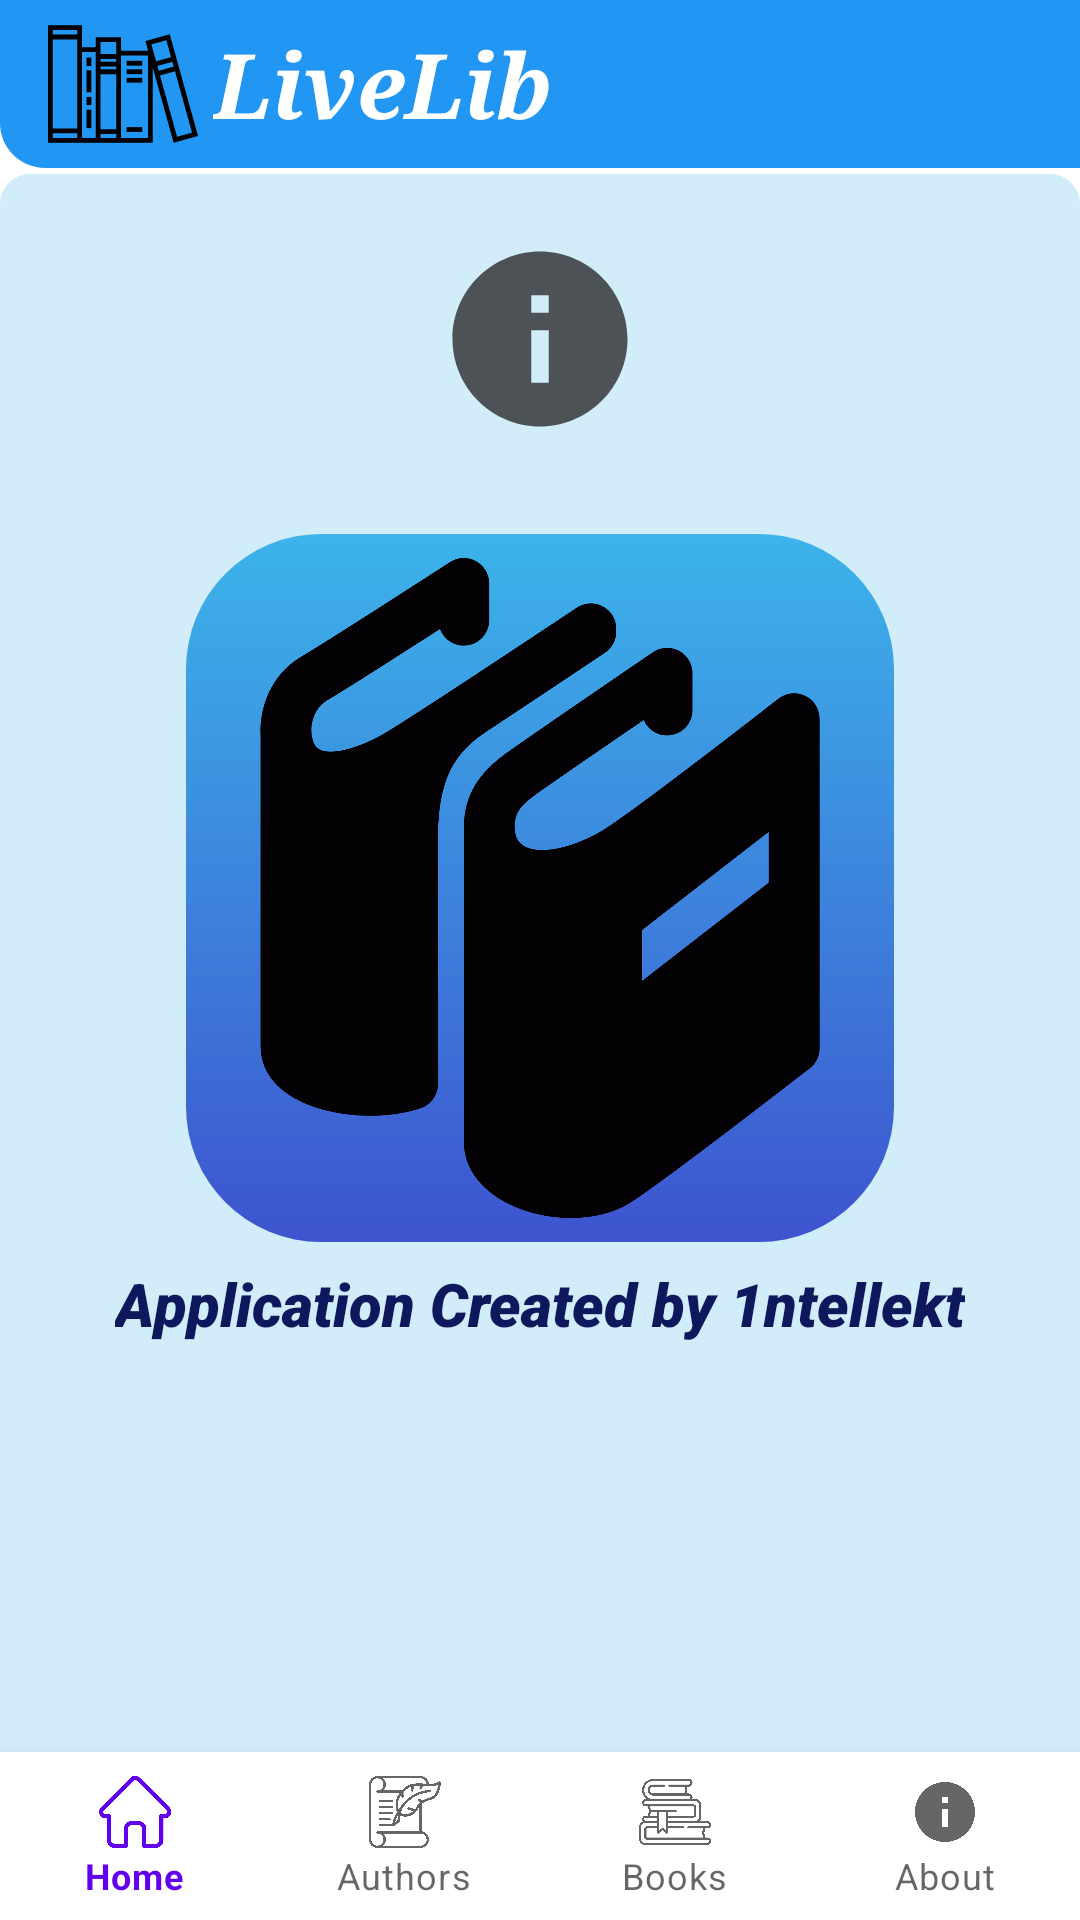

Icon bounding boxes for this 1080w x 1920h phone screenshot, format (x1=x1, y1=y1, x2=x2, y2=y2):
info: (x1=452, y1=251, x2=628, y2=427)
